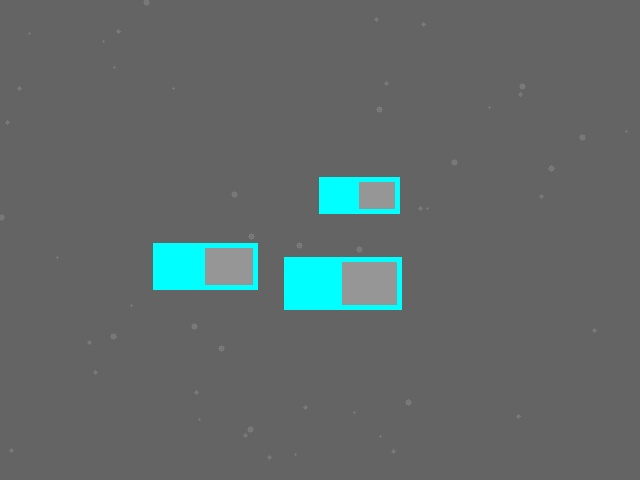truck: (284, 257, 401, 309), (153, 243, 257, 289), (319, 177, 399, 213)
